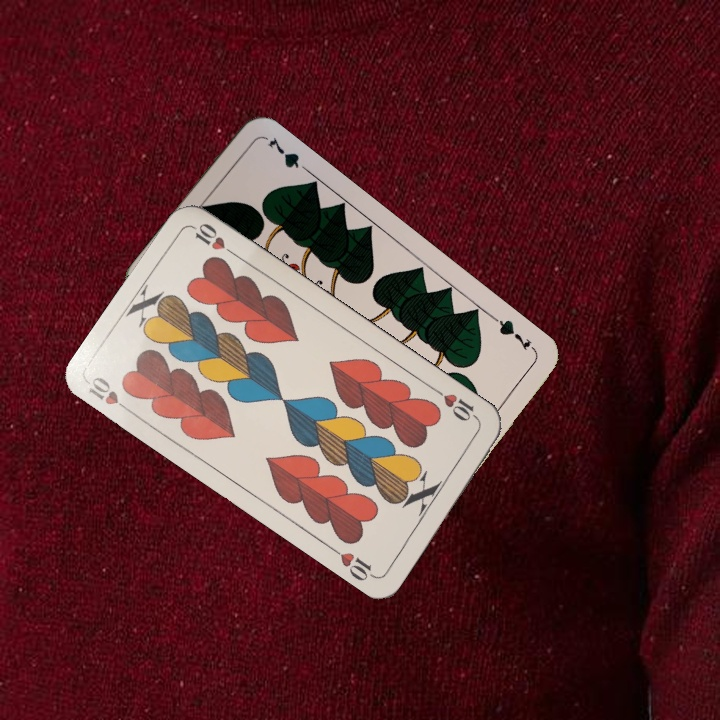G7: (489, 312, 535, 354)
H10: (83, 372, 136, 417), (430, 385, 482, 425)
